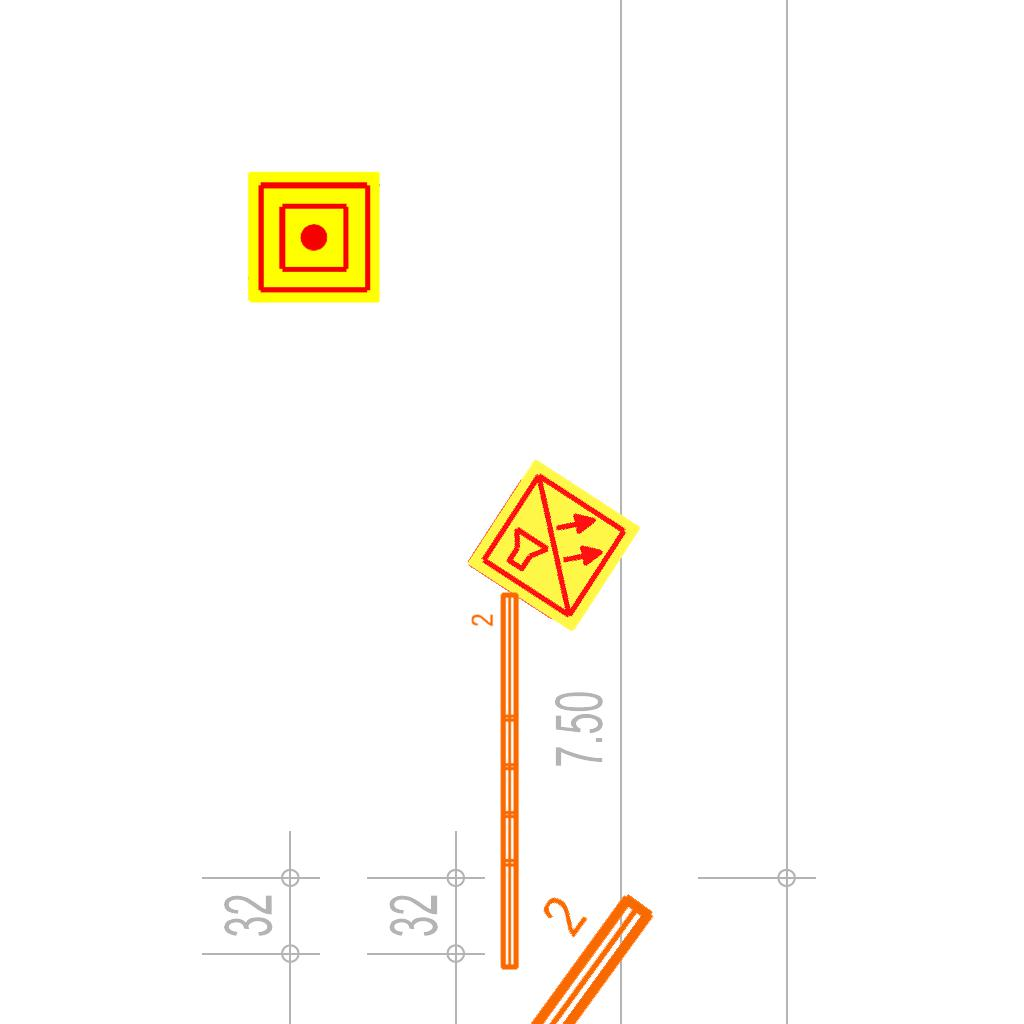Ambulanz_Pendelleuchte_LED: (125, 847, 671, 1024), (469, 588, 525, 975)
NAM-Nichtautomatischer_Melder: (248, 171, 380, 303)
OKW_Multisensormelder_(Kombination_optischer_Rauch-Kahlenmonoxid_Waerme-Melder): (462, 454, 646, 638)
